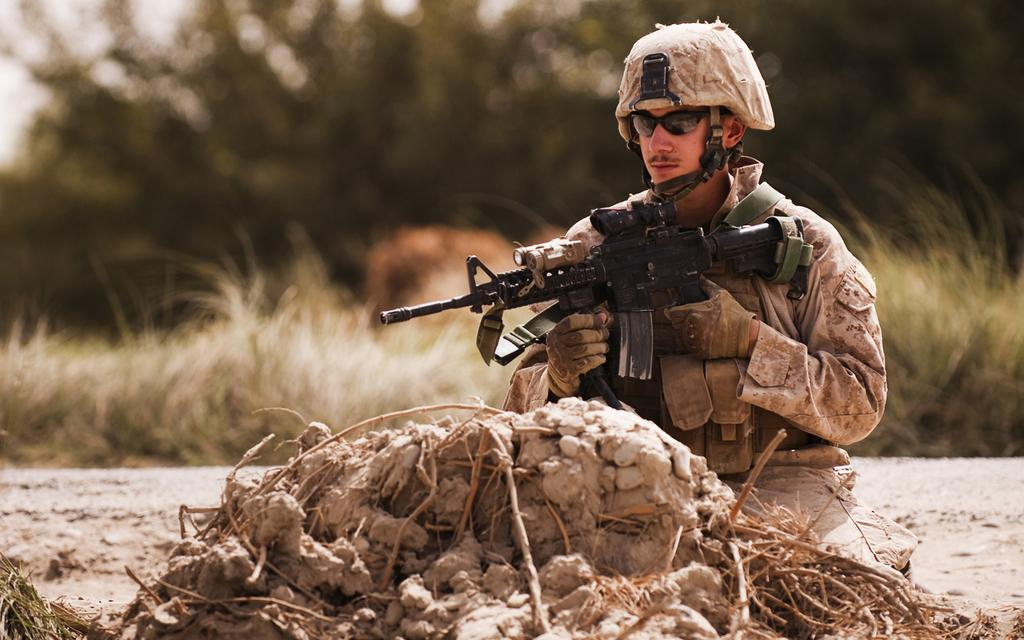Rifle: (373, 188, 851, 401)
